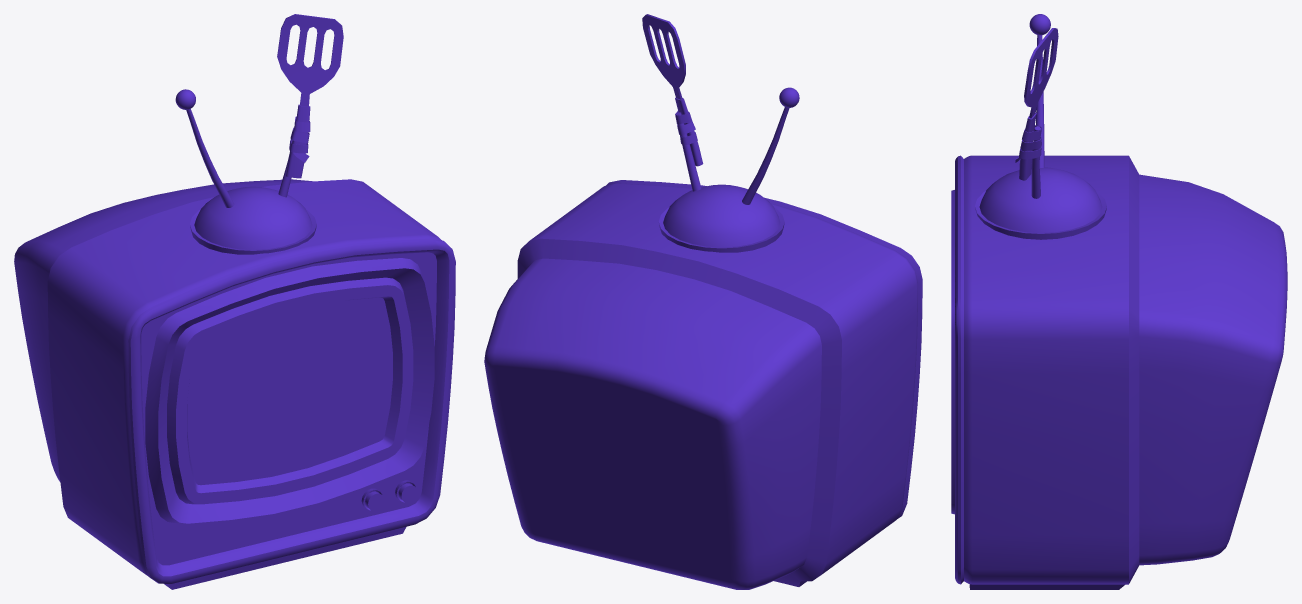
File: TV_Carcasa.fbx
3 renders of one model, left to right at view 1: azimuth 30°, elevation 25°; view 2: azimuth 150°, elevation 25°; view 3: azimuth 270°, elevation 25°, orthographic. The views are drawn at different scales.
Parts seen in each view (by area): view 1: SM_TVhousing, SM_TVHousing, SM_Antenna.003, SM_Spatula.001, SM_Button, SM_Tape.001; view 2: SM_TVhousing, SM_Antenna.003, SM_Spatula.001; view 3: SM_TVhousing, SM_Antenna.003, SM_Spatula.001, SM_TVHousing, SM_Tape.001.
Part boxes in pixels (left/top/right/bottom): SM_TVhousing: left=14, top=179, right=455, bottom=589; SM_TVHousing: left=145, top=258, right=434, bottom=523; SM_Antenna.003: left=175, top=89, right=316, bottom=254; SM_Spatula.001: left=277, top=14, right=343, bottom=178; SM_Button: left=361, top=480, right=417, bottom=511; SM_Tape.001: left=289, top=116, right=310, bottom=162; SM_TVhousing: left=484, top=180, right=922, bottom=589; SM_Antenna.003: left=659, top=87, right=799, bottom=252; SM_Spatula.001: left=642, top=14, right=703, bottom=166; SM_TVhousing: left=955, top=155, right=1287, bottom=589; SM_Antenna.003: left=975, top=14, right=1106, bottom=239; SM_Spatula.001: left=1019, top=28, right=1058, bottom=180; SM_TVHousing: left=951, top=190, right=954, bottom=514; SM_Tape.001: left=1015, top=125, right=1041, bottom=162.
Bounding box in the file's own units: 218 × 323 × 186.
